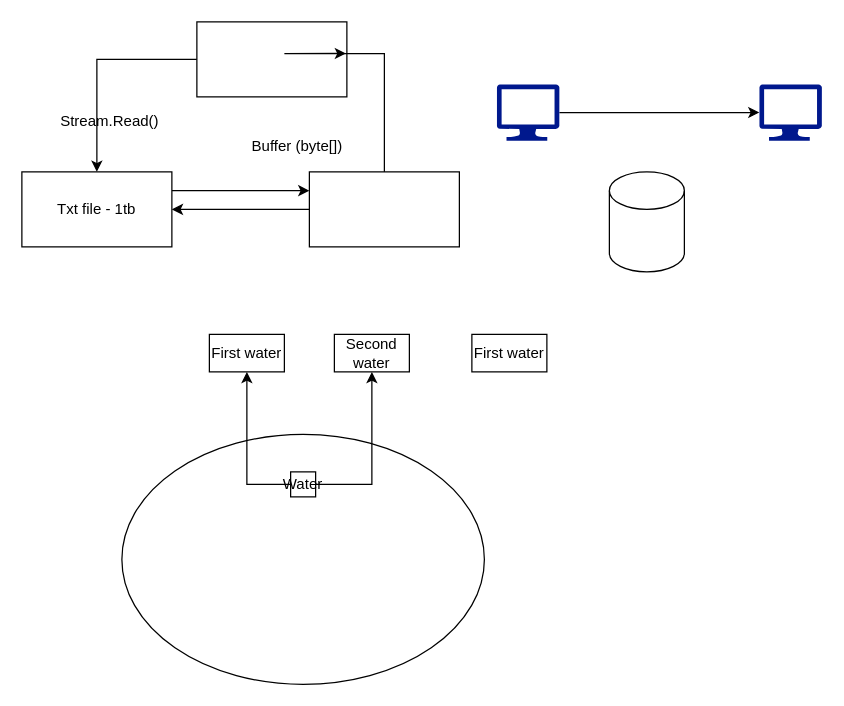
Image size: 844x706. Some labels were removed from this diagram. Each missing label, with the centre of its shape:
"100gb file" belongs at (x=646, y=221).
"Gogi" belongs at (x=271, y=59).
"Stream ->100 bytes, 5600" belongs at (x=383, y=209).
